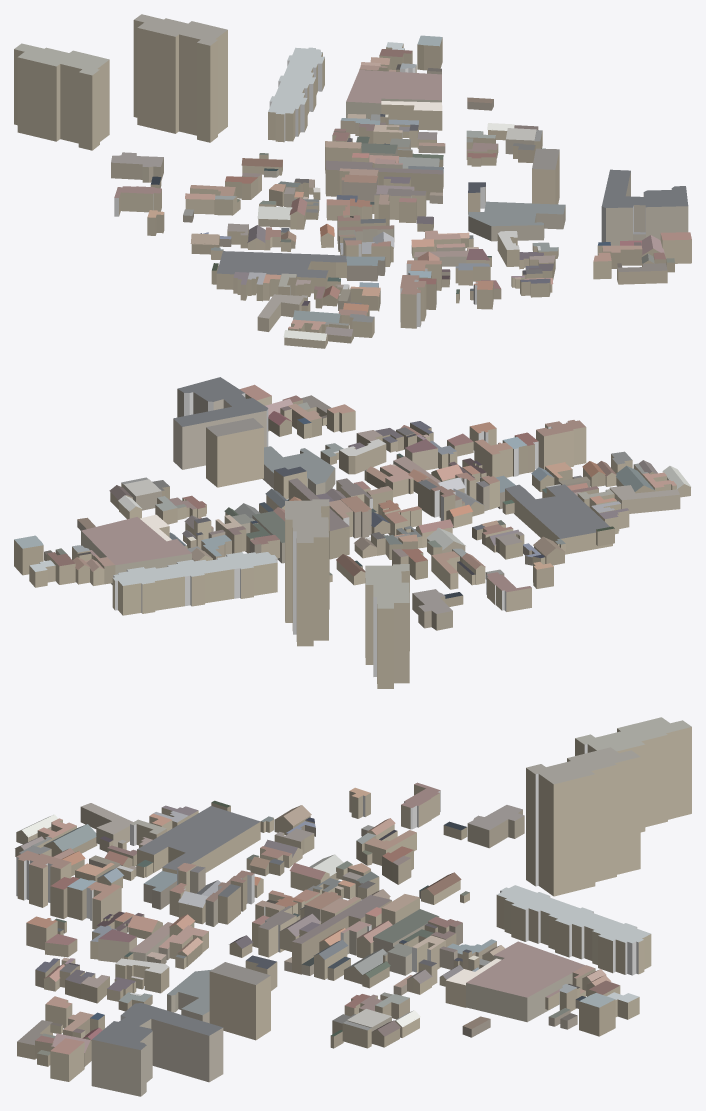
3 renders of one model, top to bottom at view 1: azimuth 30°, elevation 25°; view 2: azimuth 150°, elevation 25°; view 3: azimuth 270°, elevation 25°, orthographic. The views are drawn at different scales.
Visible parts, largest first — view 1: tuile; view 2: tuile; view 3: tuile.
Boxes of the visible parts, box(x1,y1,x2,y2) form: tuile: box(14, 14, 691, 348); tuile: box(14, 377, 691, 688); tuile: box(15, 717, 691, 1096).
Size of the model in its own units: 250 by 71.02 by 281.
